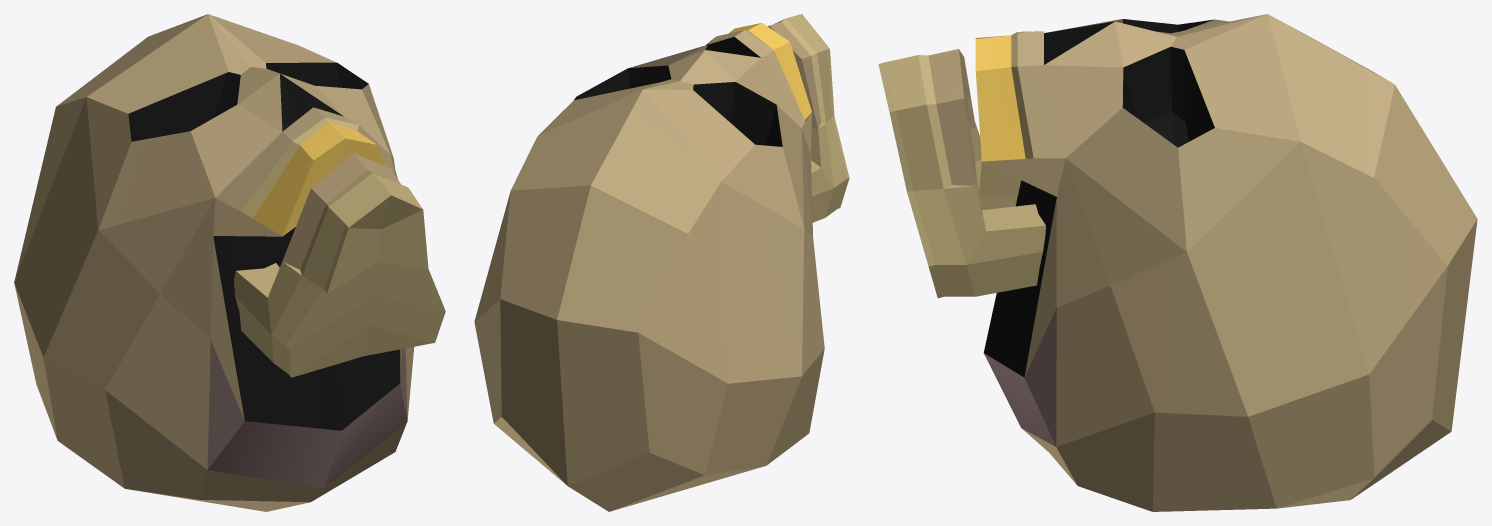
The model's file is Skeleton_skull.fbx.
3 views of the same model, side by side, from view 1: azimuth 30°, elevation 25°; view 2: azimuth 150°, elevation 25°; view 3: azimuth 270°, elevation 25° (orthographic). The views are drawn at different scales.
Parts seen in each view (by area): view 1: Skeleton_skull; view 2: Skeleton_skull; view 3: Skeleton_skull.
Boxes of the visible parts, x1,y1,x2,y2 form: Skeleton_skull: [14, 14, 445, 511]; Skeleton_skull: [474, 14, 849, 511]; Skeleton_skull: [878, 14, 1477, 511].
Bounding box in the file's own units: 19.88 × 25 × 27.93.
